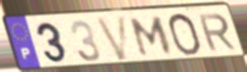3: (34, 20, 71, 65), (70, 18, 101, 62)
M: (129, 15, 175, 58)
O: (166, 11, 203, 57)
R: (196, 12, 239, 53)
V: (94, 14, 130, 63)
